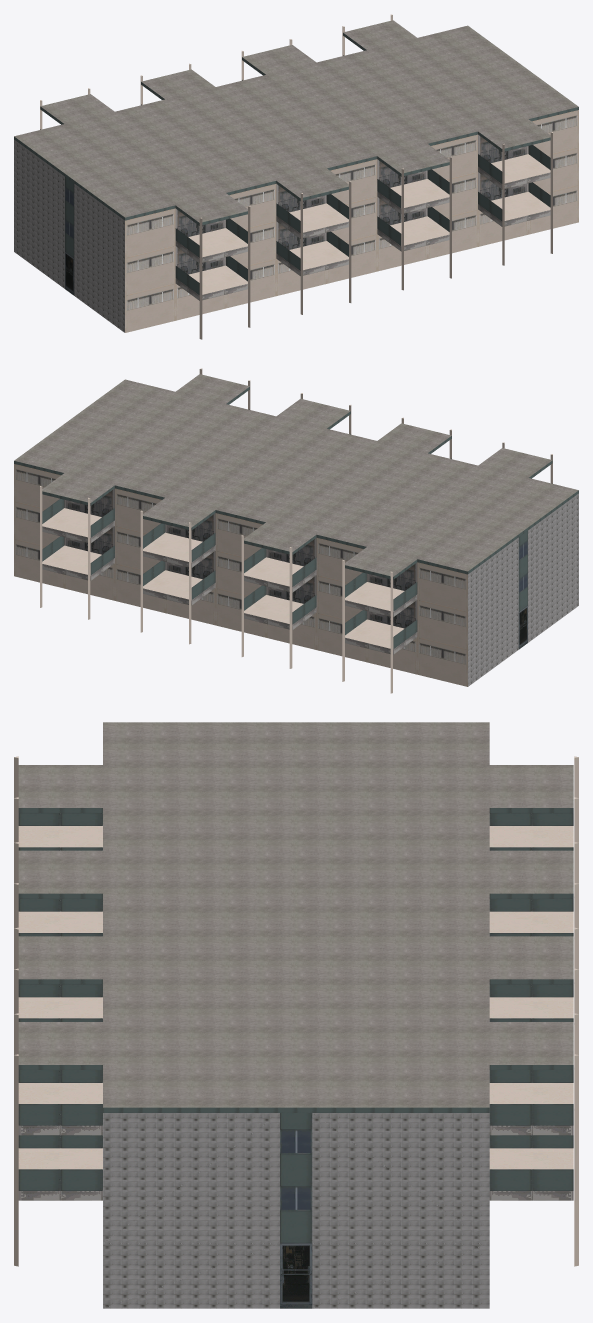
Rendered from vagbond02_lvs.obj.
3 renders of one model, top to bottom at view 1: azimuth 30°, elevation 25°; view 2: azimuth 150°, elevation 25°; view 3: azimuth 270°, elevation 25°, orthographic. The views are drawn at different scales.
Parts seen in each view (by area): view 1: vagbond02_lvs; view 2: vagbond02_lvs; view 3: vagbond02_lvs.
Boxes of the visible parts, x1,y1,x2,y2 form: vagbond02_lvs: [14, 14, 578, 339]; vagbond02_lvs: [14, 368, 578, 693]; vagbond02_lvs: [14, 722, 578, 1308].
Bounding box in the file's own units: 44.59 × 11.36 × 27.63.
6 materials, 6 textured.
